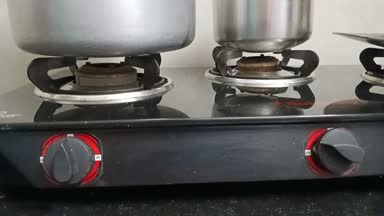noflame_gason: (223, 52, 363, 175), (30, 53, 143, 187)
